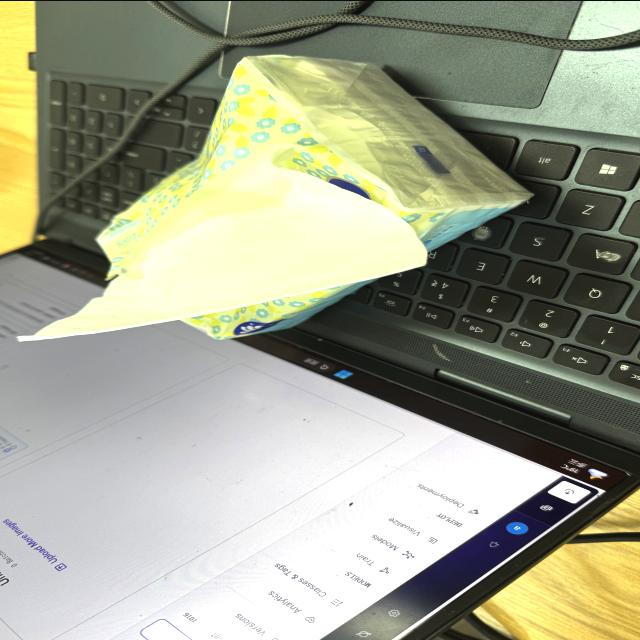tissue: (19, 144, 426, 339)
